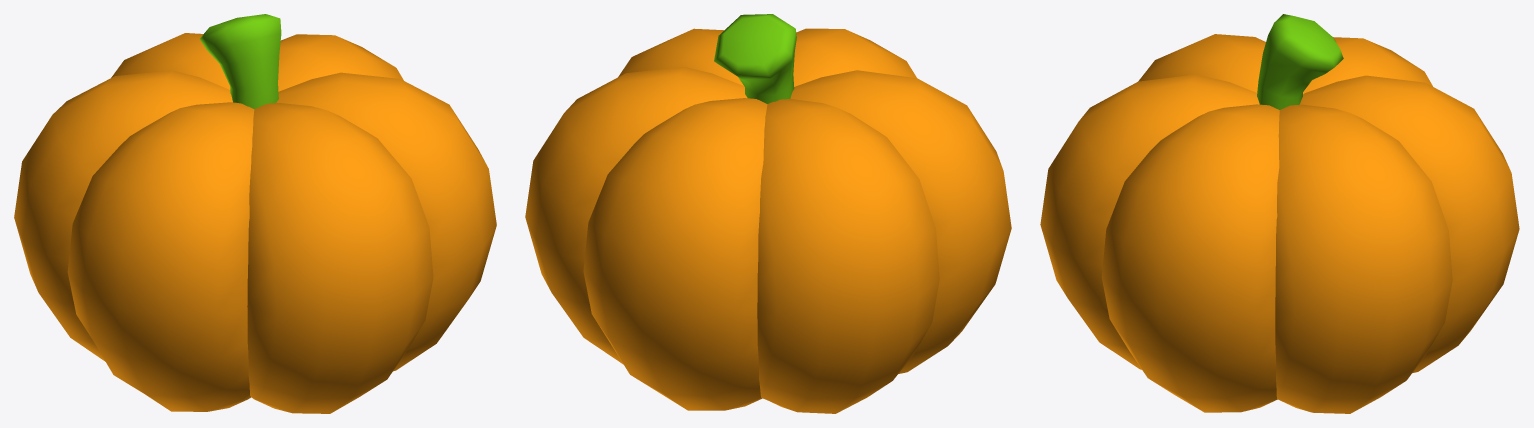
Rendered from Pumpkin.fbx.
The picture shows the model from 3 angles, left to right: view 1: azimuth 30°, elevation 25°; view 2: azimuth 150°, elevation 25°; view 3: azimuth 270°, elevation 25°; orthographic projection.
Visible parts, largest first — view 1: polySurface3, polySurface2, polySurface5, polySurface6, polySurface4, polySurface1, polySurface7; view 2: polySurface6, polySurface7, polySurface2, polySurface1, polySurface4, polySurface3, polySurface5; view 3: polySurface1, polySurface5, polySurface7, polySurface3, polySurface4, polySurface2, polySurface6.
Boxes of the visible parts, x1=… form: polySurface3: x1=247, y1=103, x2=433, y2=413; polySurface2: x1=67, y1=102, x2=254, y2=411; polySurface5: x1=276, y1=72, x2=496, y2=371; polySurface6: x1=14, y1=70, x2=232, y2=361; polySurface4: x1=200, y1=14, x2=281, y2=109; polySurface1: x1=278, y1=34, x2=403, y2=91; polySurface7: x1=111, y1=33, x2=230, y2=89; polySurface6: x1=757, y1=99, x2=939, y2=413; polySurface7: x1=583, y1=98, x2=767, y2=410; polySurface2: x1=790, y1=70, x2=1011, y2=373; polySurface1: x1=525, y1=66, x2=747, y2=364; polySurface4: x1=714, y1=14, x2=796, y2=103; polySurface3: x1=793, y1=28, x2=916, y2=86; polySurface5: x1=618, y1=28, x2=743, y2=85; polySurface1: x1=1275, y1=104, x2=1452, y2=413; polySurface5: x1=1101, y1=104, x2=1279, y2=412; polySurface7: x1=1299, y1=75, x2=1519, y2=372; polySurface3: x1=1040, y1=74, x2=1259, y2=369; polySurface4: x1=1257, y1=14, x2=1343, y2=109; polySurface2: x1=1138, y1=34, x2=1265, y2=92; polySurface6: x1=1303, y1=37, x2=1432, y2=94.
Size of the model in its own units: 3.13 by 2.7 by 3.32.
Materials: 1 (1 with a texture image).
